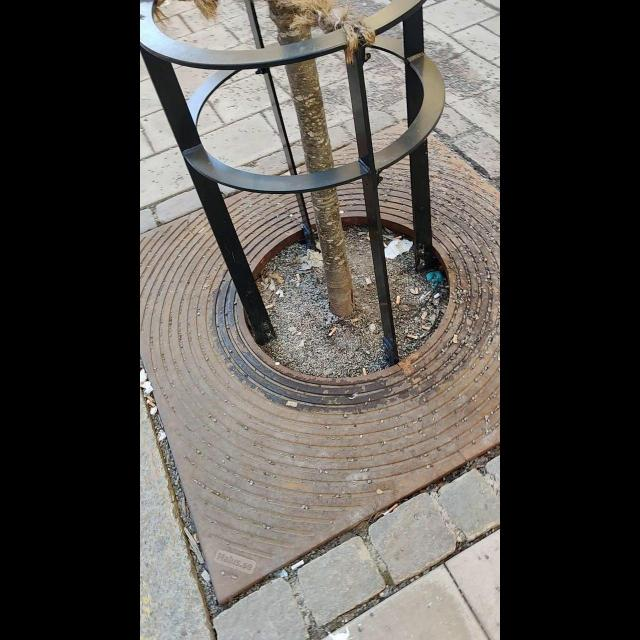cigarette: (382, 504, 398, 516), (292, 560, 305, 572), (327, 326, 336, 338), (403, 334, 418, 341), (285, 400, 299, 406), (362, 364, 368, 376), (452, 334, 459, 344), (265, 302, 276, 308), (145, 399, 154, 406), (395, 296, 401, 306), (295, 272, 301, 280), (422, 326, 429, 332), (414, 286, 418, 292), (146, 394, 151, 398)
